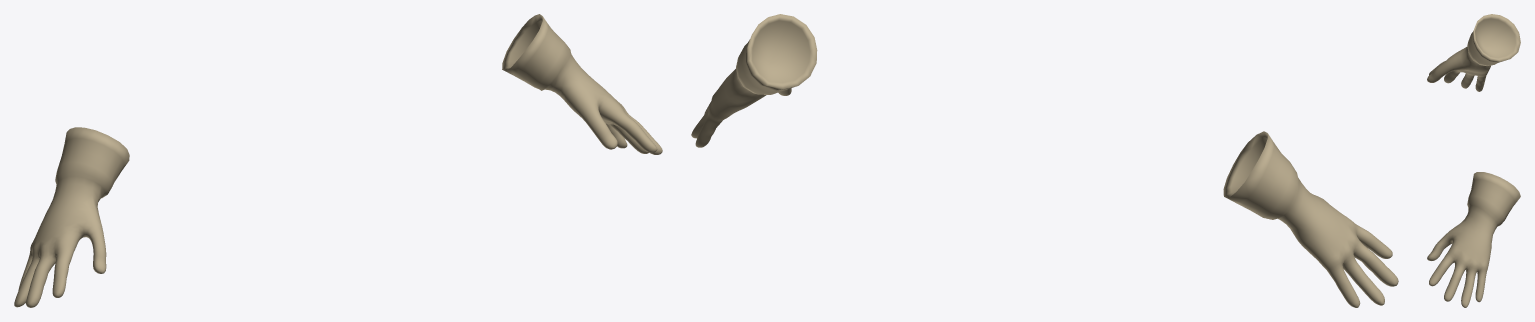
Rendered from DapperDan01_gloves.fbx.
The picture shows the model from 3 angles, left to right: view 1: azimuth 30°, elevation 25°; view 2: azimuth 150°, elevation 25°; view 3: azimuth 270°, elevation 25°; orthographic projection. The views are drawn at different scales.
Parts seen in each view (by area): view 1: Gloves_high; view 2: Gloves_high; view 3: Gloves_high.
Boxes of the visible parts, left/top/right/bottom form: Gloves_high: left=14, top=14, right=662, bottom=307; Gloves_high: left=691, top=14, right=1398, bottom=307; Gloves_high: left=1427, top=14, right=1520, bottom=307.
Bounding box in the file's own units: 113 × 20.22 × 24.69.
